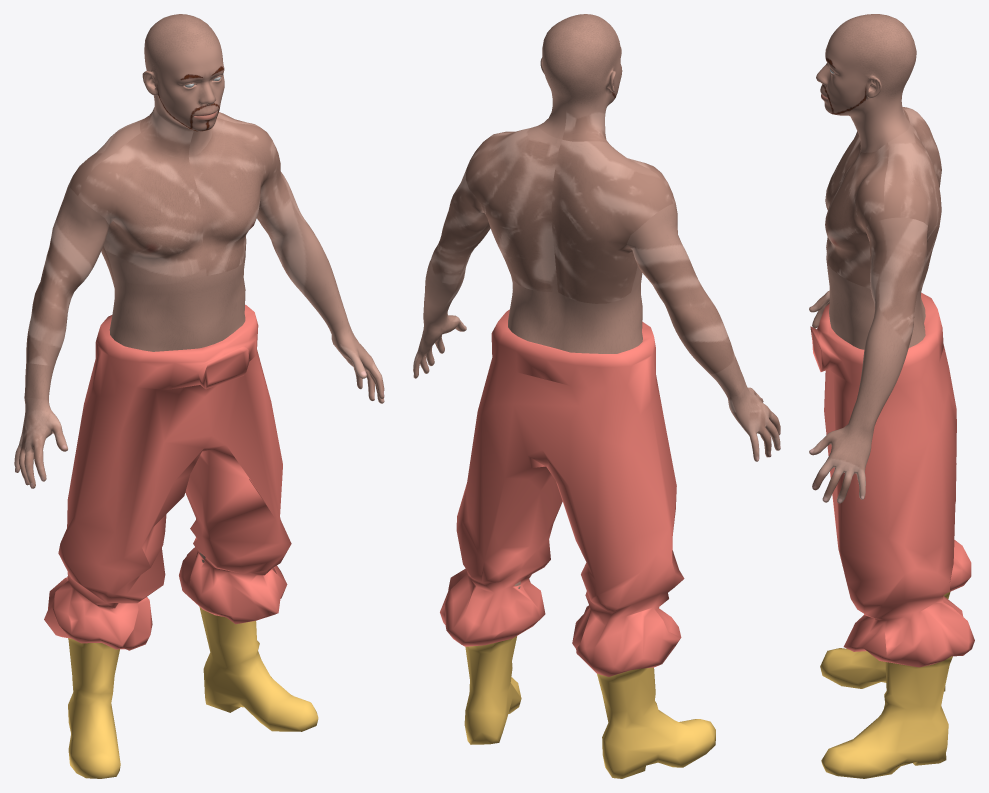
The model's file is characterFull.fbx.
3 views of the same model, side by side, from view 1: azimuth 30°, elevation 25°; view 2: azimuth 150°, elevation 25°; view 3: azimuth 270°, elevation 25° (orthographic).
Parts seen in each view (by area): view 1: trousers01lp, character; view 2: trousers01lp, character; view 3: trousers01lp, character.
Part boxes in pixels (x1,y1,x2,y2): trousers01lp: [44, 304, 318, 778]; character: [14, 14, 384, 562]; trousers01lp: [440, 309, 715, 778]; character: [413, 14, 780, 588]; trousers01lp: [810, 293, 974, 778]; character: [809, 14, 941, 503].
Bounding box in the file's own units: 88.07 × 171 × 36.25.
